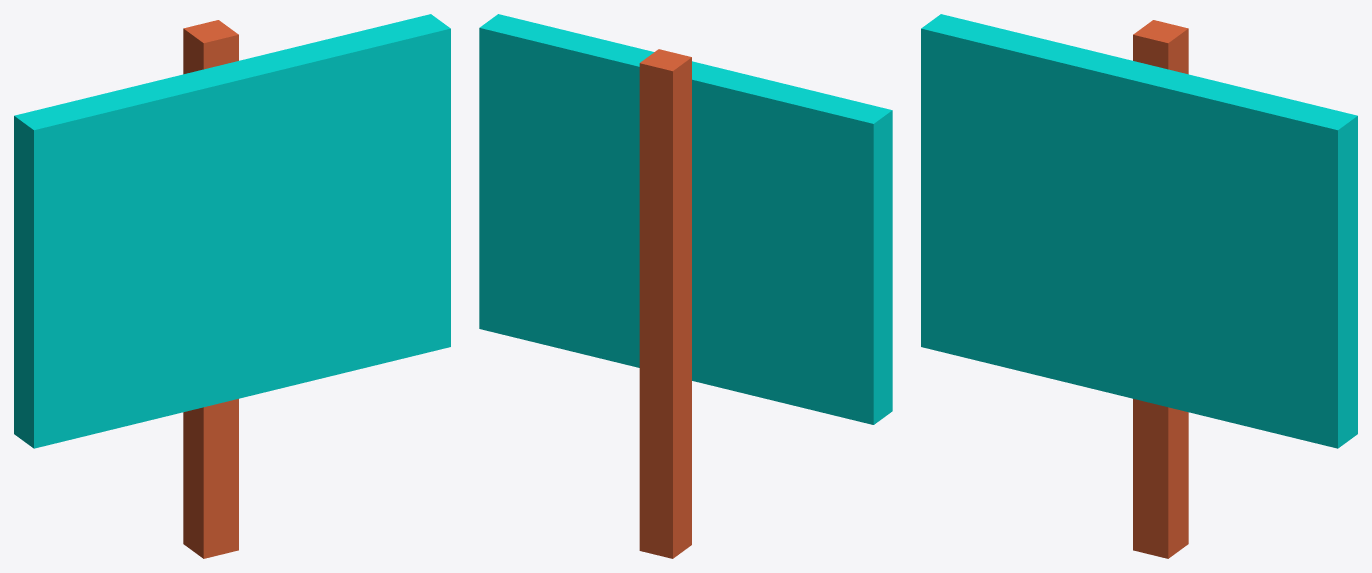
3 views of the same model, side by side, from view 1: azimuth 30°, elevation 25°; view 2: azimuth 150°, elevation 25°; view 3: azimuth 330°, elevation 25° (orthographic). The views are drawn at different scales.
Visible parts, largest first — view 1: Cube, 立方体; view 2: Cube, 立方体; view 3: Cube, 立方体.
Part boxes in pixels (box(x1,y1,x2,y2)): Cube: box(14, 14, 450, 448); 立方体: box(183, 20, 238, 558); Cube: box(479, 14, 892, 424); 立方体: box(639, 49, 691, 558); Cube: box(921, 14, 1357, 448); 立方体: box(1133, 20, 1188, 558).
Size of the model in its own units: 2.37 by 2.8 by 0.408.
